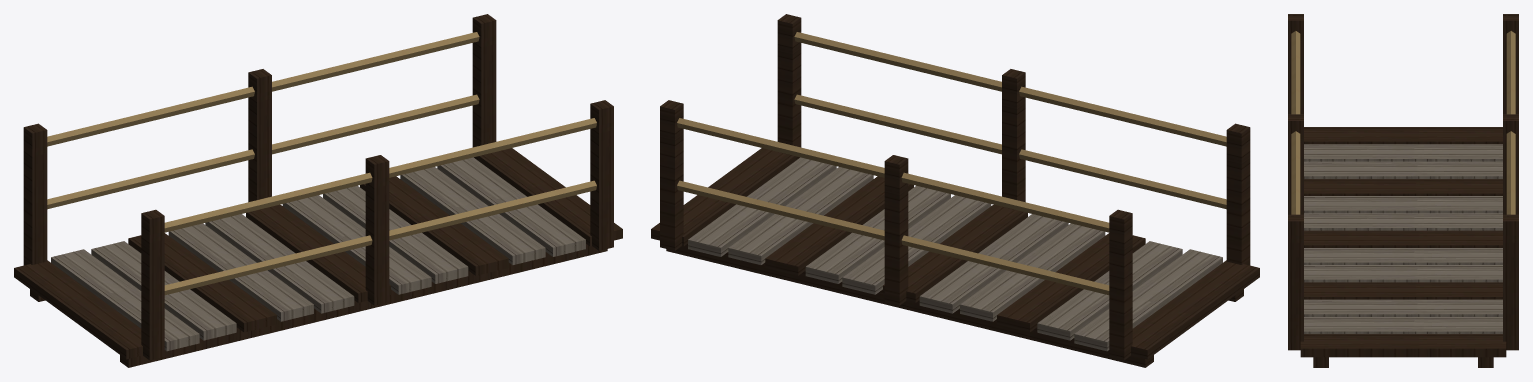
Rendered from plank_bridge_01.glb.
The picture shows the model from 3 angles, left to right: view 1: azimuth 30°, elevation 25°; view 2: azimuth 150°, elevation 25°; view 3: azimuth 270°, elevation 25°; orthographic projection. The views are drawn at different scales.
Parts seen in each view (by area): view 1: plank_bridge_01; view 2: plank_bridge_01; view 3: plank_bridge_01.
Boxes of the visible parts, <box> form: plank_bridge_01: <box>14,14,622,367</box>; plank_bridge_01: <box>651,14,1259,367</box>; plank_bridge_01: <box>1288,14,1518,367</box>.
Bounding box in the file's own units: 3.32 × 1 × 1.46.
Materials: 3 (3 with a texture image).
